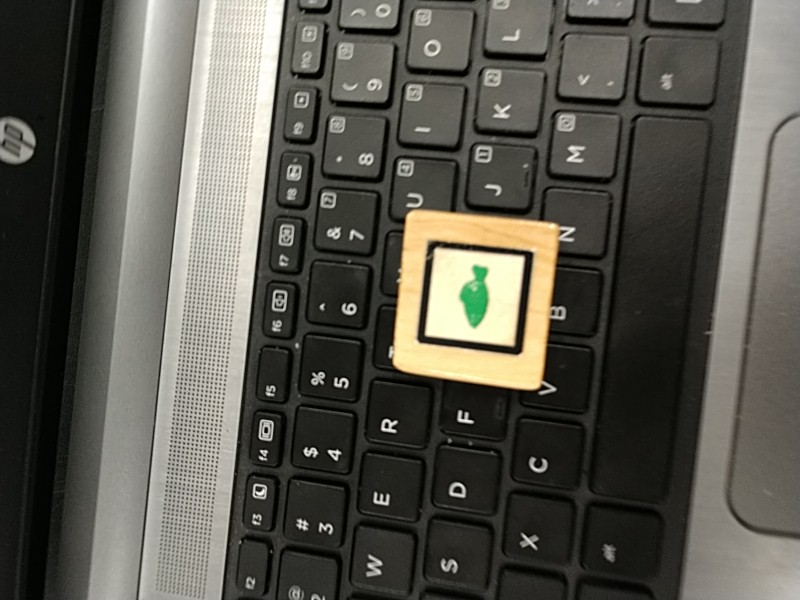Fish Tile: (414, 230, 536, 359)
